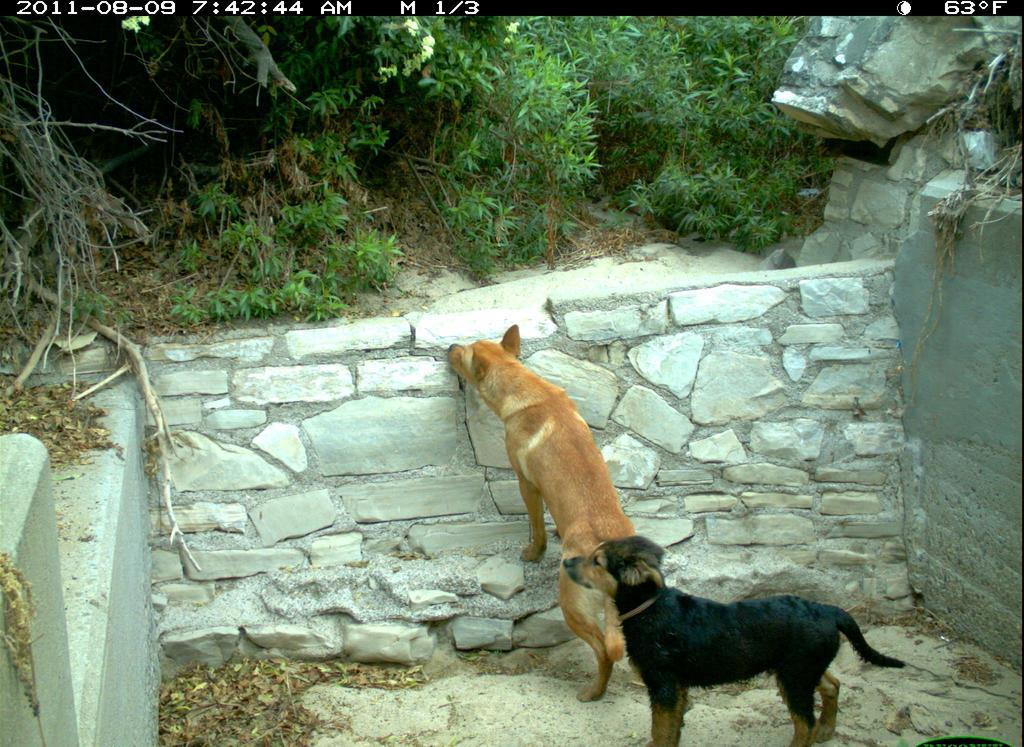dog: (446, 322, 664, 711), (569, 534, 909, 735)
